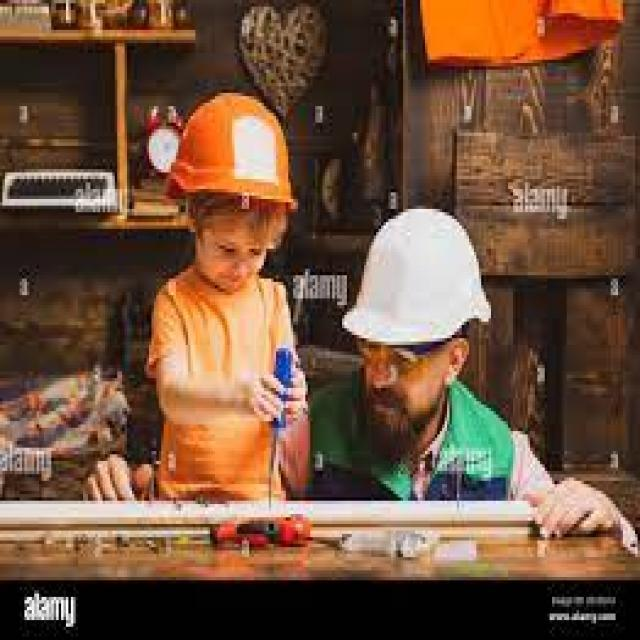screwdriver: (254, 348, 296, 521)
